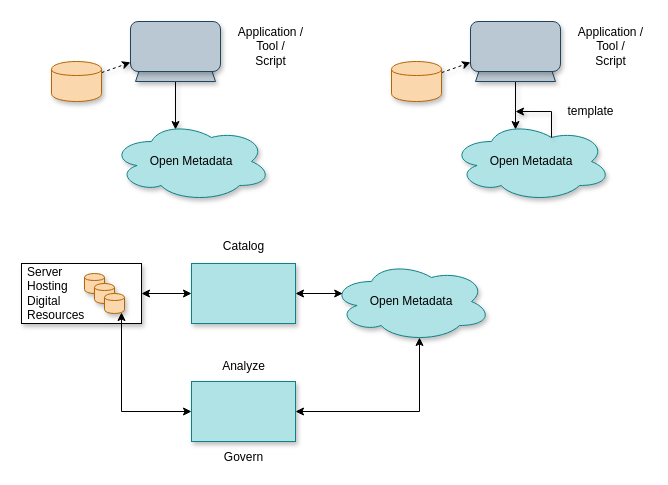
Some shapes in this 668 by 485 pixel diagram are drawn without their labels. The centre of each missing label's shape, as x and y in pixels:
"Engine Host" belongs at pixel 244 412.
"Integration Daemon" belongs at pixel 244 294.
